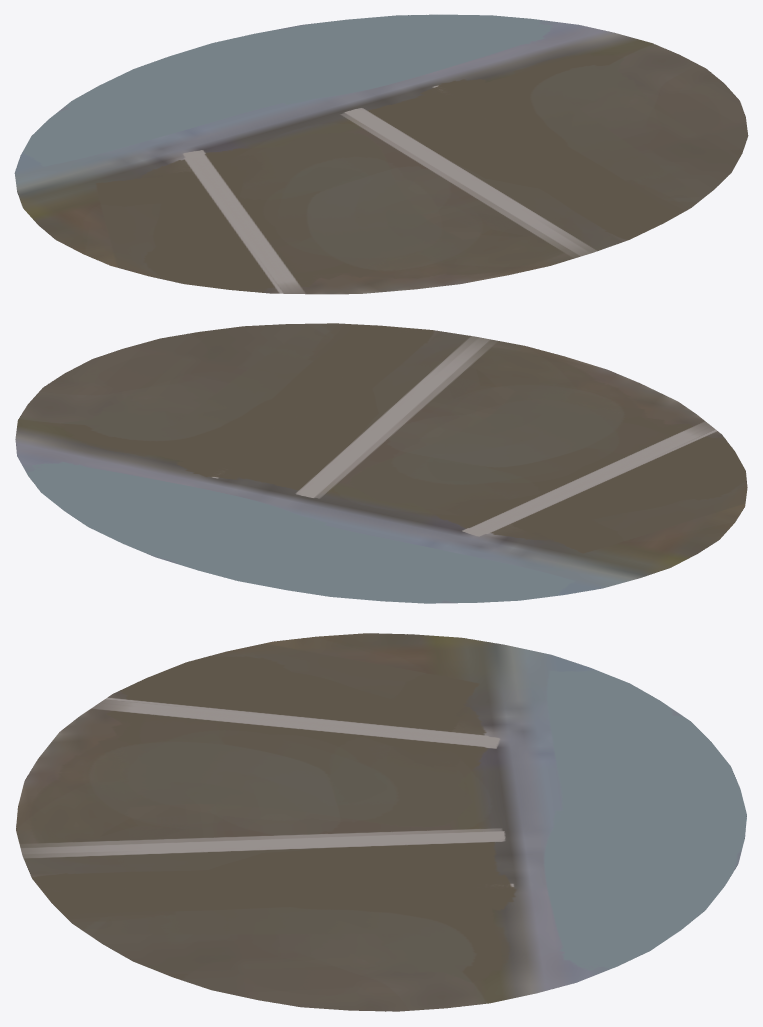
3 views of the same model, one above another, from view 1: azimuth 30°, elevation 25°; view 2: azimuth 150°, elevation 25°; view 3: azimuth 270°, elevation 25° (orthographic). The views are drawn at different scales.
Parts seen in each view (by area): view 1: pDisc2; view 2: pDisc2; view 3: pDisc2.
Boxes of the visible parts, x1,y1,x2,y2 form: pDisc2: (14, 14, 748, 294); pDisc2: (15, 323, 747, 603); pDisc2: (16, 633, 746, 1011).
Bounding box in the file's own units: 1.12 × 0 × 0.9165.
